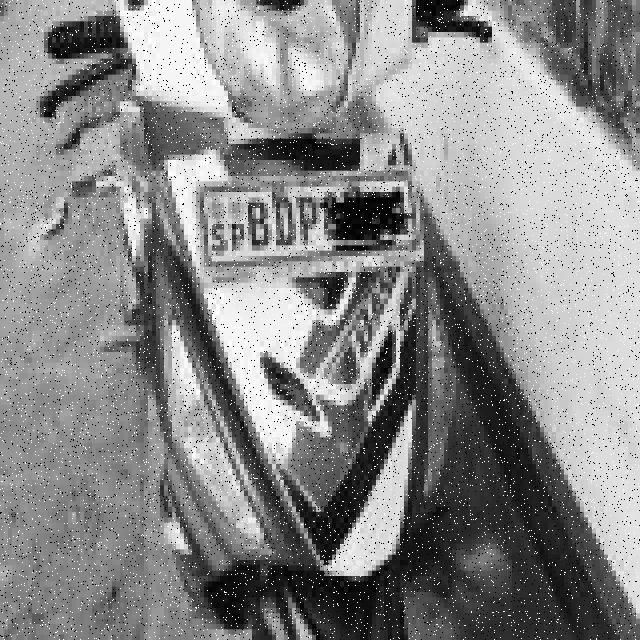motorbike: (34, 0, 492, 640)
